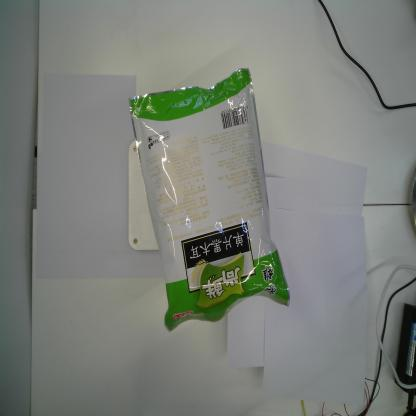Dried Food: (126, 61, 293, 338)
